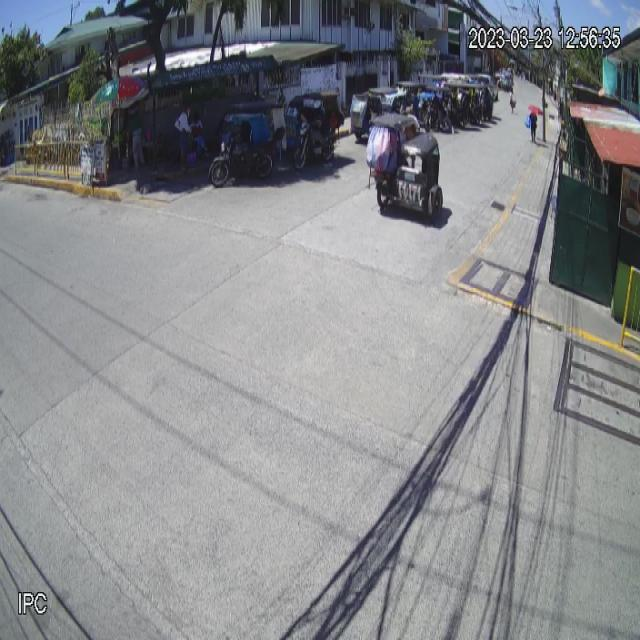Tricycle: (366, 112, 444, 218)
